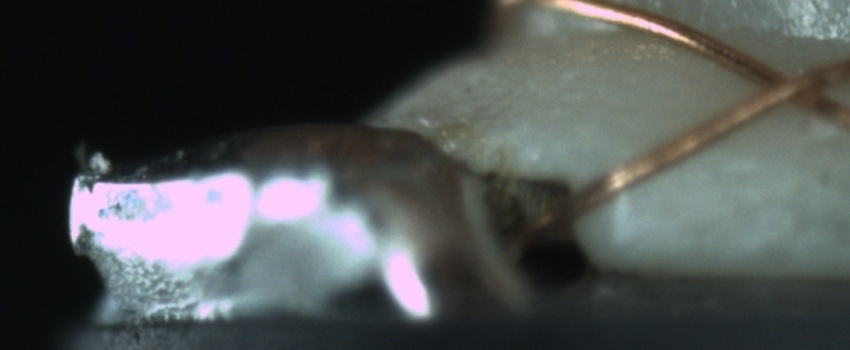CL: (734, 55, 826, 118)
